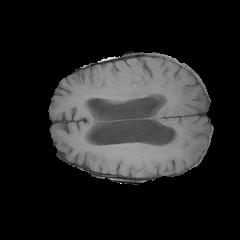glioma: (80, 131, 181, 162)
